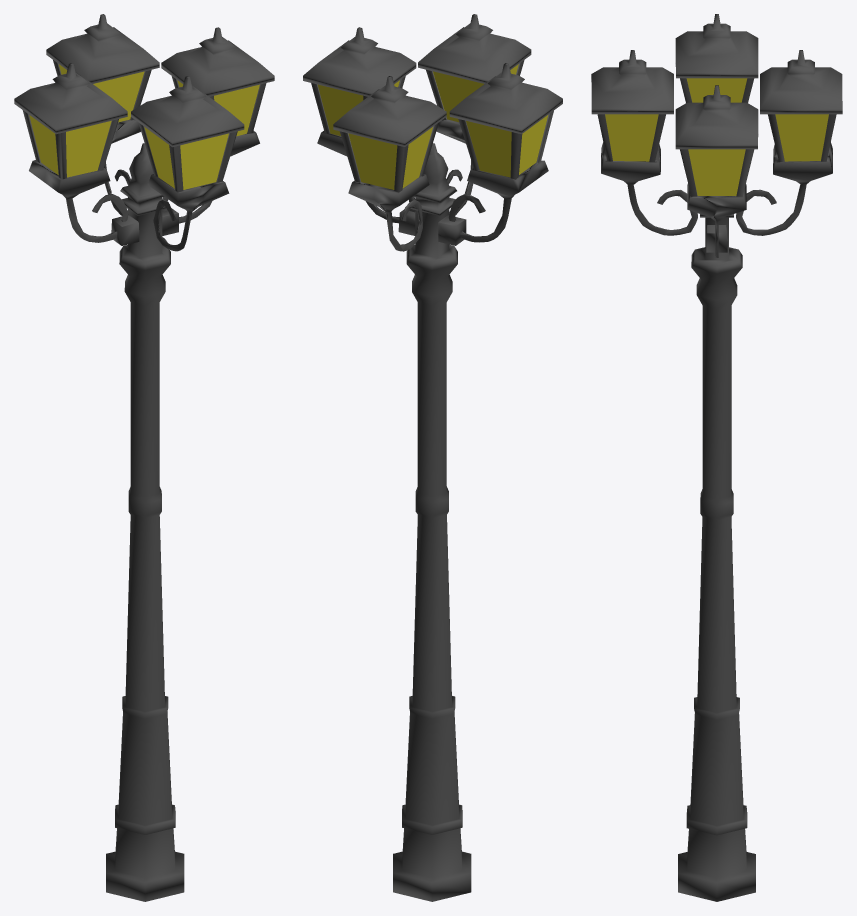
The model's file is street-lamp.glb.
3 renders of one model, left to right at view 1: azimuth 30°, elevation 25°; view 2: azimuth 150°, elevation 25°; view 3: azimuth 270°, elevation 25°, orthographic.
Visible parts, largest first — view 1: Cylinder.001; view 2: Cylinder.001; view 3: Cylinder.001.
Part boxes in pixels (x1,y1,x2,y2): Cylinder.001: (14,14,274,901); Cylinder.001: (303,14,562,901); Cylinder.001: (591,14,842,901).
Bounding box in the file's own units: 0.2734 × 1 × 0.2734.
